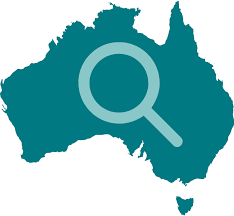searchIcon: (77, 40, 185, 150)
